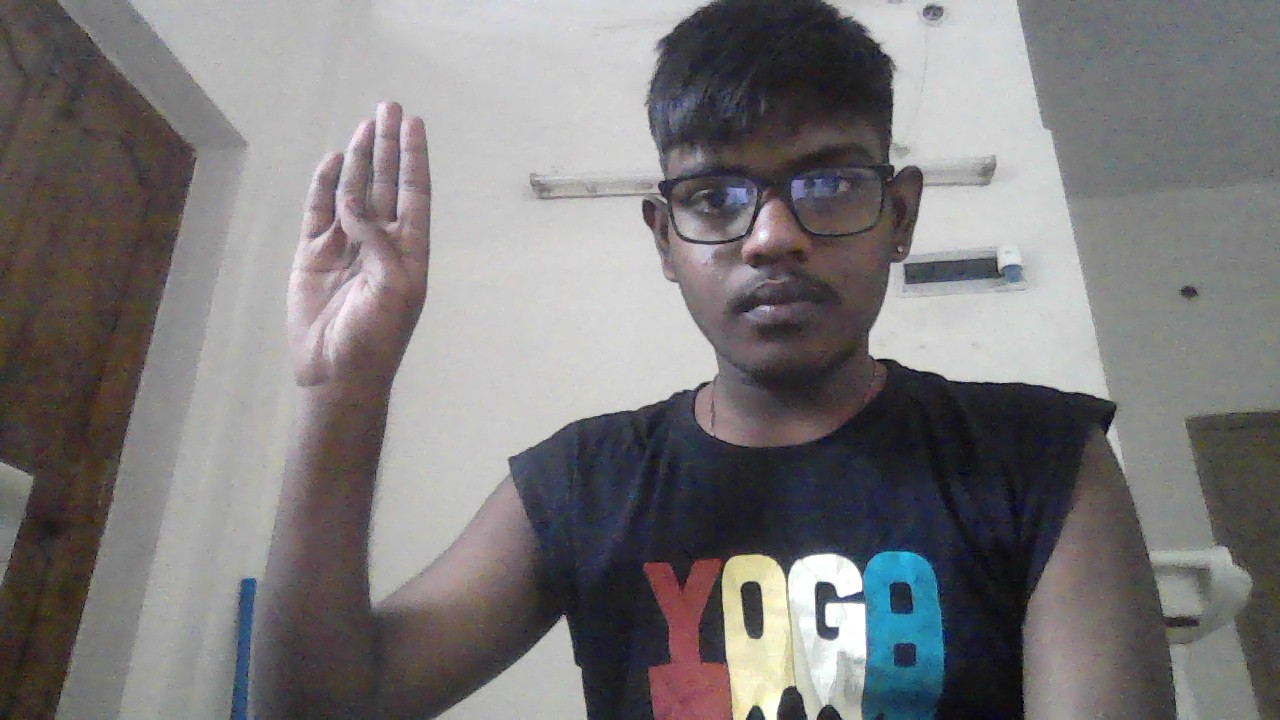B: (288, 101, 429, 398)
